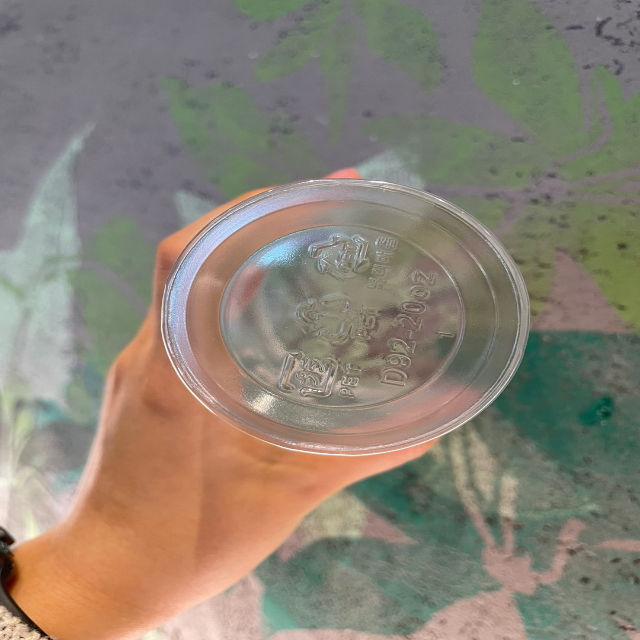pet: (307, 226, 402, 296), (273, 343, 366, 401), (292, 293, 377, 351)
